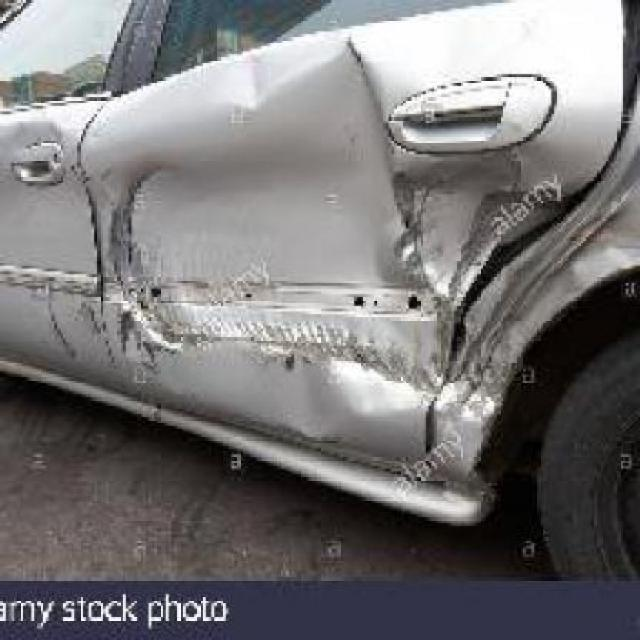damaged-door: (96, 0, 627, 511)
